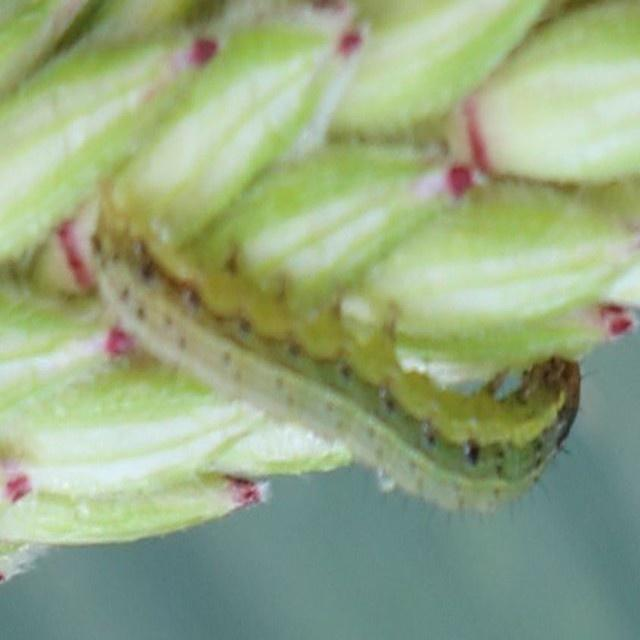gusano_cogollero: (96, 182, 584, 515)
